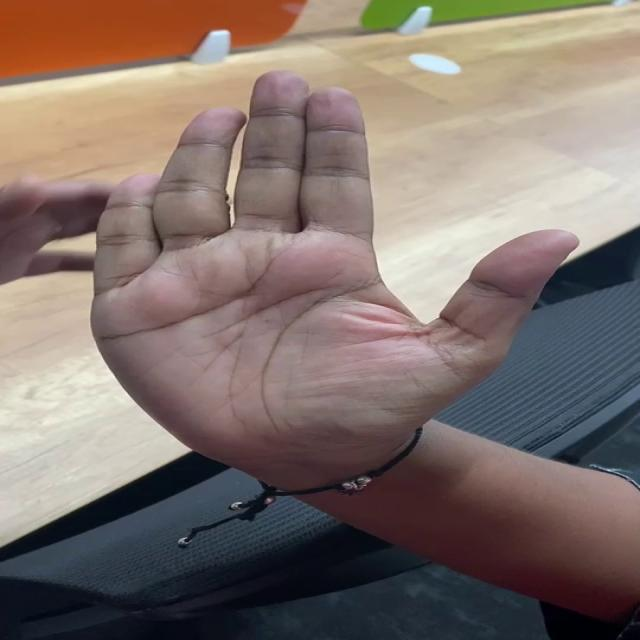no-gloves: (60, 55, 581, 494)
